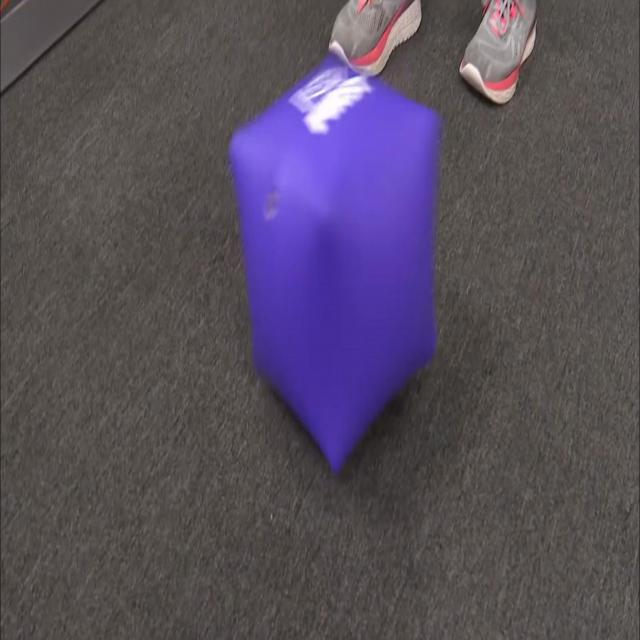frc_cube: (230, 60, 440, 480)
